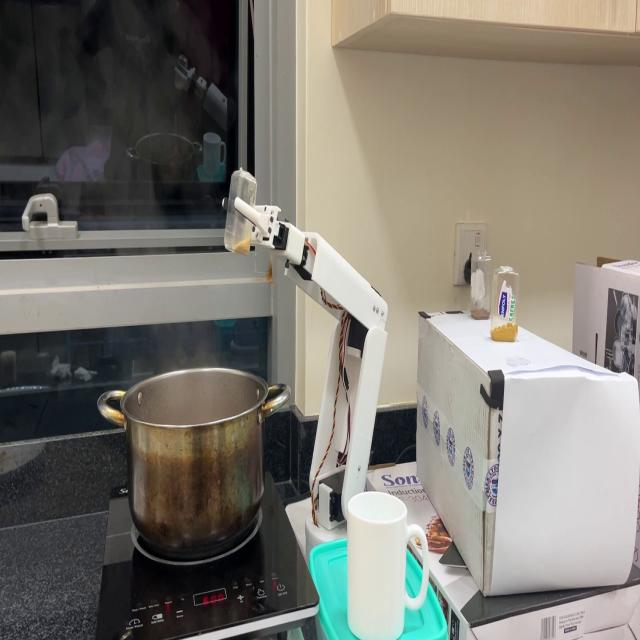cooking_pot: (96, 362, 294, 553)
curry_powder: (492, 322, 516, 340)
garlic_powder: (231, 229, 252, 254)
maggie_open: (472, 307, 487, 321)
